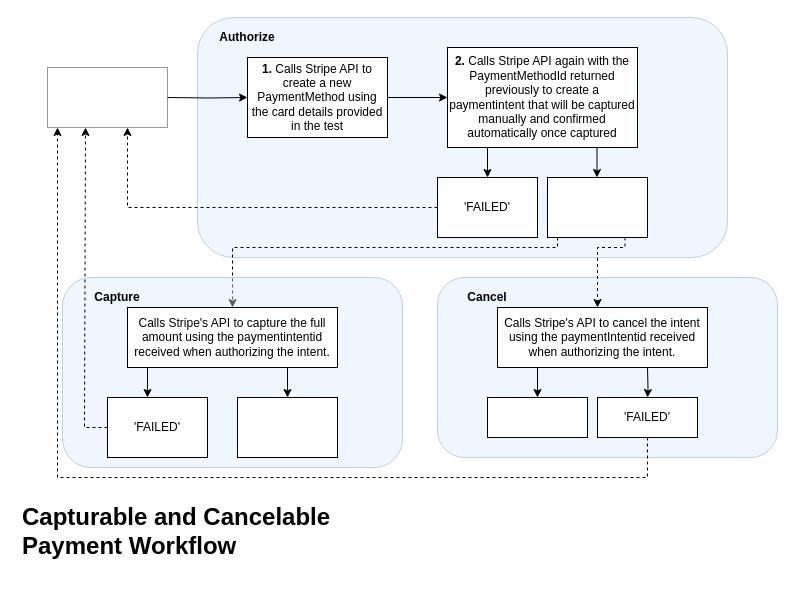
The diagram is 795 pixels wide and 595 high, and some of its shapes have lost their labels. Here are the shapes that lost their labels. From the top down, the centre of each, then its label:
At point 107,97: "Primer Connections".
At point 597,207: "'AUTHORIZED'".
At point 287,427: "'SETTLED'".
At point 537,417: "'CANCELED'".
